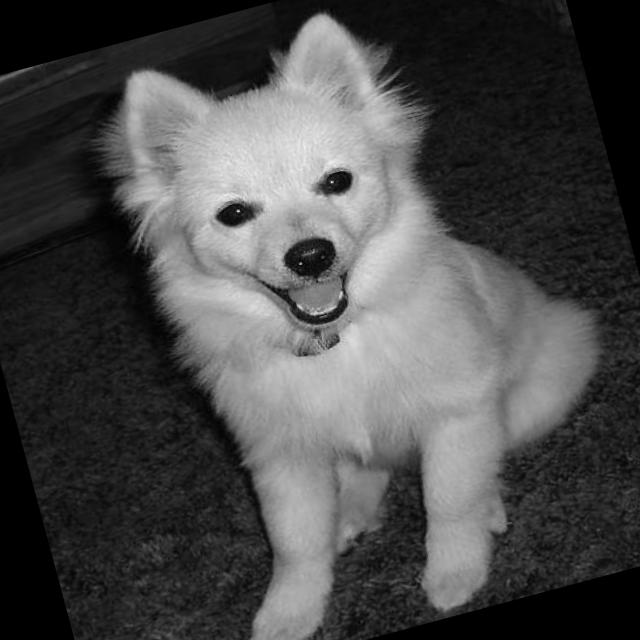sitting: (58, 0, 640, 640)
